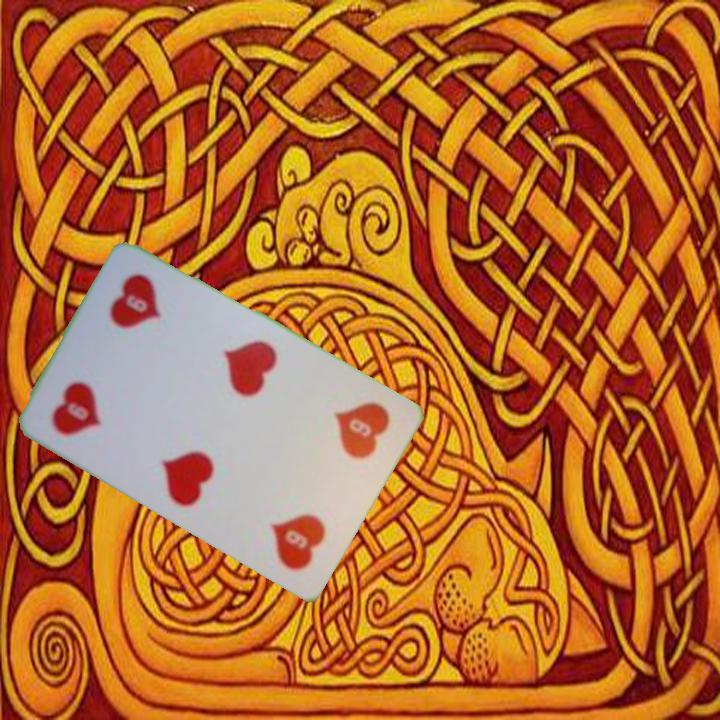h_6.png: (31, 335, 154, 462), (282, 374, 405, 501)
